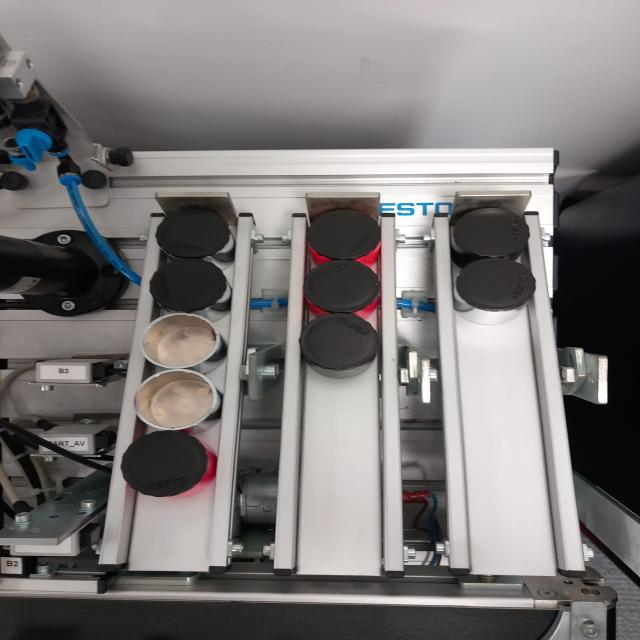NoLid: (132, 370, 228, 431), (139, 312, 228, 371)
Workpiece: (447, 259, 550, 336), (117, 432, 211, 498), (293, 319, 382, 382), (444, 202, 539, 260), (298, 262, 386, 321), (302, 205, 383, 267), (147, 259, 235, 313), (160, 210, 242, 262)
